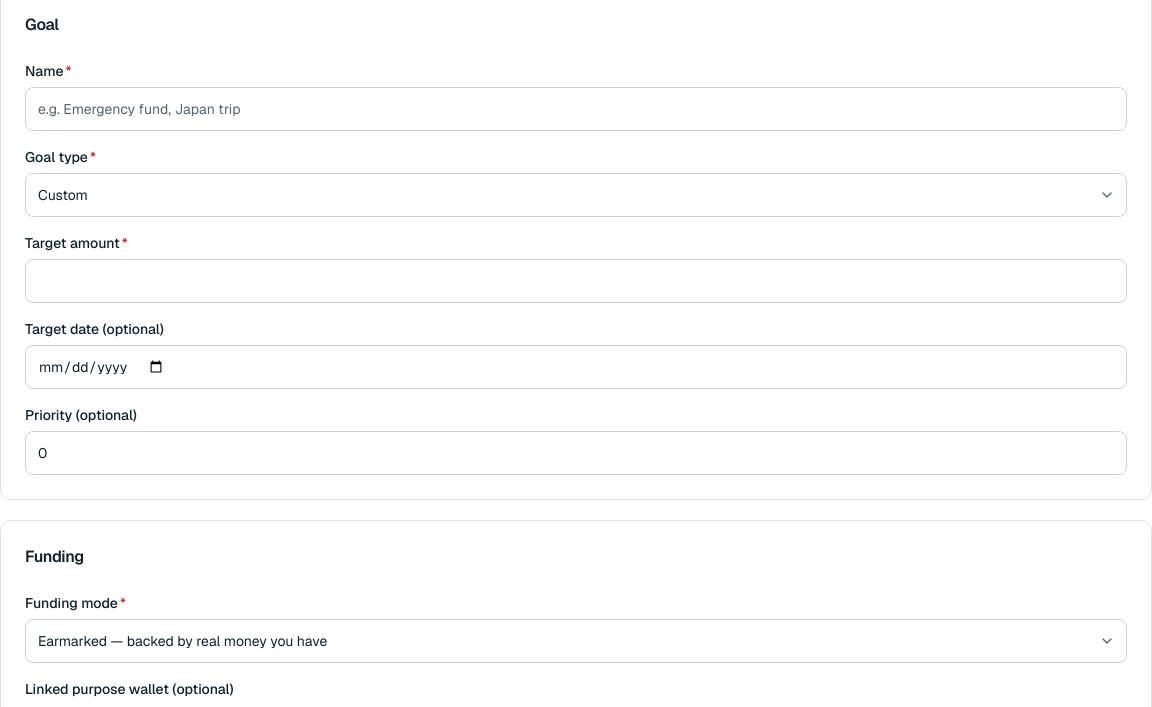
GoalForm › shows the sinking-fund contribution frequency once that goal type is chosen
Select "Sinking fund" in the dropdown labelled "Goal type". click: (576, 195)
box: left=25, top=173, right=1127, bottom=217
(page scrolled)
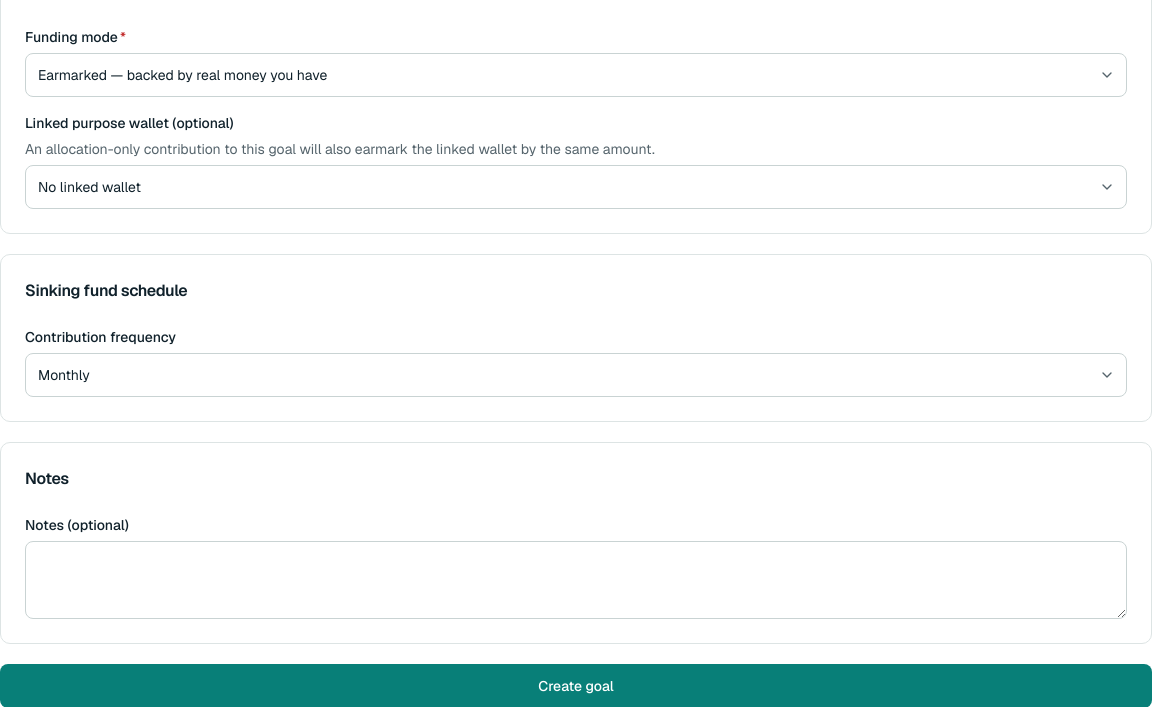
Check: the dropdown labelled "Contribution frequency" is shown, box left=25, top=353, right=1127, bottom=397
